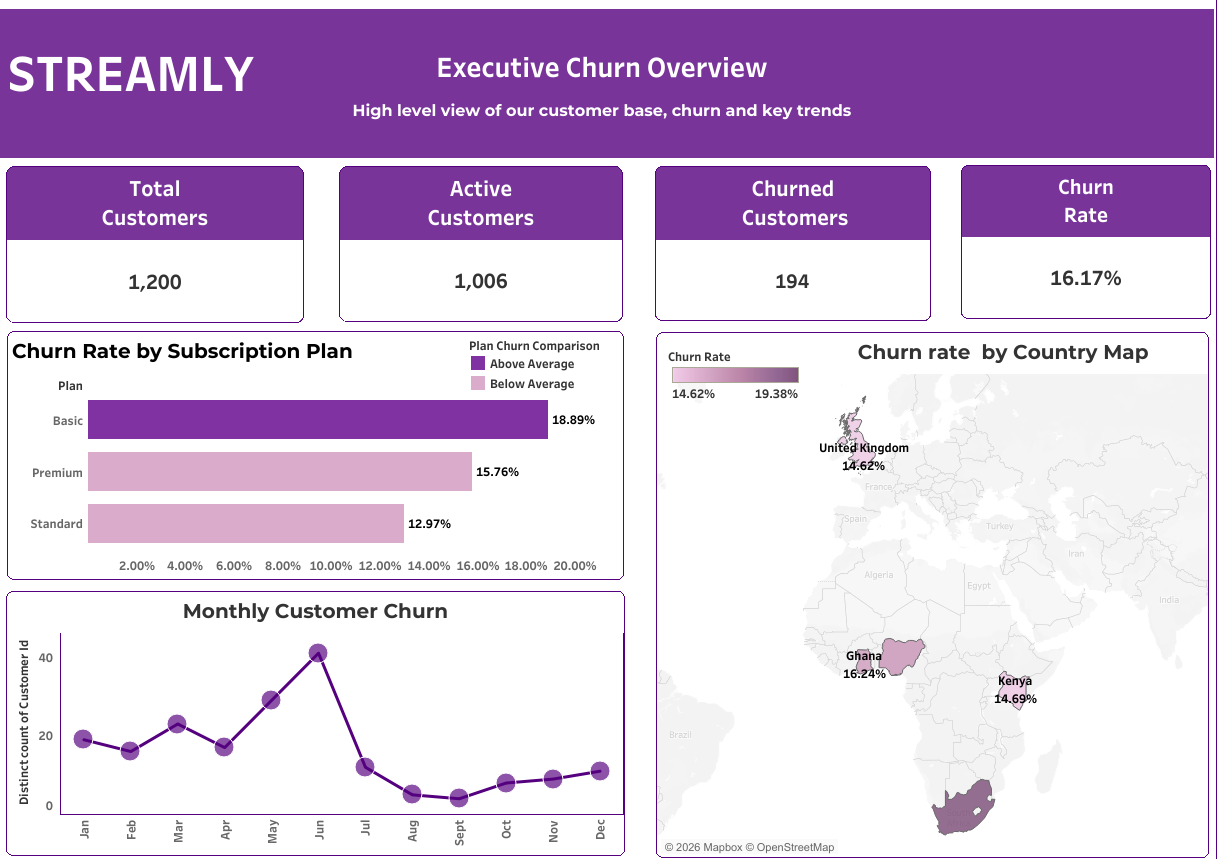

What the dashboard file says about the page in this screenshot:
{"tool":"tableau","page":{"name":"Dashboard 1","canvas":[1000,1000],"units":"permille","ordinal":0},"visuals":[{"type":"text","box":[4.4,29.1,230.9,105.8]},{"type":"worksheet","title":"Churn Rate","mark":"Automatic","box":[787.6,191.9,205.4,179.1]},{"type":"worksheet","title":"KPI - Total Customers","mark":"Automatic","box":[4.9,193,244.3,182.6]},{"type":"worksheet","title":"KPI - Active Customers","mark":"Automatic","box":[277.9,193,232.8,181.4]},{"type":"worksheet","title":"KPI - Churned Customers","mark":"Automatic","box":[536.7,193,226.4,180.2]},{"type":"worksheet","title":"Churn Rate by subscription Plan","mark":"Bar","rows":["plan"],"cols":["Calculation_0531662846451712"],"box":[6.1,384.9,505.2,289.5]},{"type":"worksheet","title":"Churn rate by Country Map","mark":"Automatic","box":[537.6,386.1,453.7,611.6]},{"type":"legend","title":"Churn Rate by subscription Plan","param":"[federated.07hnzqo0yb98tu105zv501t4bqjx].[usr:Calculation_0074266520870913:nk]","box":[383.6,388.4,115.6,68.6]},{"type":"legend","title":"Churn rate by Country Map","param":"[federated.07hnzqo0yb98tu105zv501t4bqjx].[usr:Calculation_0531662846451712:qk]","box":[547.9,398.8,110.6,82.6]},{"type":"worksheet","title":"Monthly Customer Churn","mark":"Line","rows":["customer_id","customer_id"],"cols":["Calculation_0531662855475201"],"box":[5.2,687.2,507,308.1]}]}

Visuals, with their boxes on the dashboard's canvas, which has no fixed pixel size, in thousandths of its width and height (x1, y1, x2, y2). These are canvas units, not pixel positions in the 1219x859 screenshot, which may show the page scaled, cropped or inside an application window:
text: (4, 29, 235, 135)
"Churn Rate" worksheet: (788, 192, 993, 371)
"KPI - Total Customers" worksheet: (5, 193, 249, 376)
"KPI - Active Customers" worksheet: (278, 193, 511, 374)
"KPI - Churned Customers" worksheet: (537, 193, 763, 373)
"Churn Rate by subscription Plan" worksheet (Bar marks): (6, 385, 511, 674)
"Churn rate by Country Map" worksheet: (538, 386, 991, 998)
"Churn Rate by subscription Plan" legend: (384, 388, 499, 457)
"Churn rate by Country Map" legend: (548, 399, 658, 481)
"Monthly Customer Churn" worksheet (Line marks): (5, 687, 512, 995)
